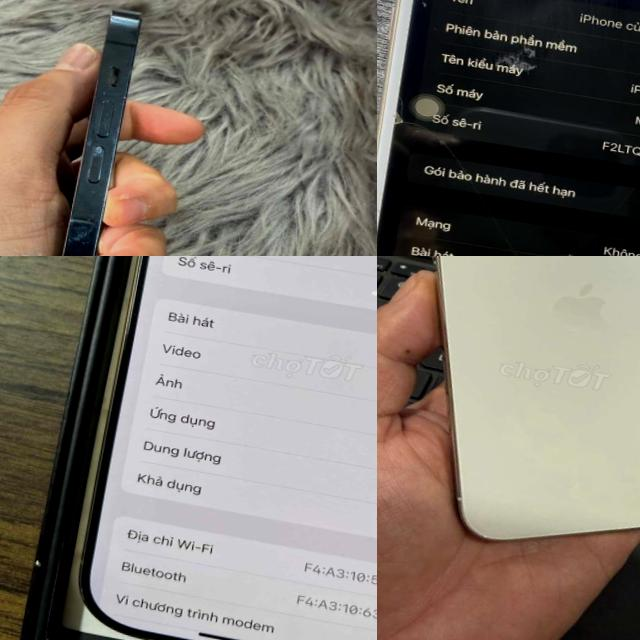gen_12_13: (377, 256, 640, 563), (0, 0, 182, 256)
gen_16: (79, 256, 377, 640)
gen_7_8: (377, 0, 640, 256)
